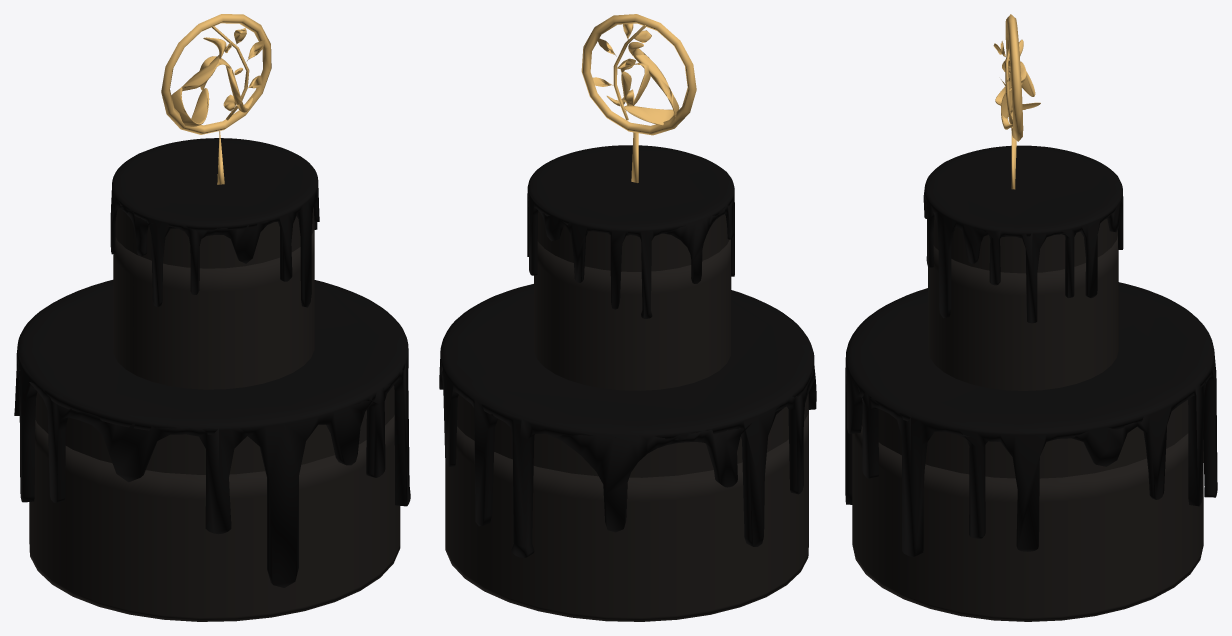
File: 2-tier-black-ganache-ring.glb
3 renders of one model, left to right at view 1: azimuth 30°, elevation 25°; view 2: azimuth 150°, elevation 25°; view 3: azimuth 270°, elevation 25°, orthographic. The views are drawn at different scales.
Parts seen in each view (by area): view 1: Cylinder.023, tHE ICING.004, Cylinder.013, tHE ICING.003, Cylinder.011; view 2: Cylinder.023, tHE ICING.004, Cylinder.013, tHE ICING.003, Cylinder.011; view 3: Cylinder.023, tHE ICING.004, Cylinder.013, tHE ICING.003, Cylinder.011.
Boxes of the visible parts, x1,y1,x2,y2 form: Cylinder.023: (29, 385, 400, 621); tHE ICING.004: (14, 280, 410, 587); Cylinder.013: (113, 207, 314, 389); tHE ICING.003: (110, 138, 319, 307); Cylinder.011: (161, 14, 271, 184); Cylinder.023: (445, 393, 808, 621); tHE ICING.004: (439, 284, 816, 557); Cylinder.013: (534, 211, 731, 390); tHE ICING.003: (527, 145, 734, 318); Cylinder.011: (581, 14, 696, 182); Cylinder.023: (852, 400, 1203, 621); tHE ICING.004: (845, 282, 1217, 557); Cylinder.013: (928, 216, 1118, 390); tHE ICING.003: (923, 145, 1123, 323); Cylinder.011: (993, 14, 1040, 189).
Bounding box in the file's own units: 3.53 × 5.36 × 3.46.
